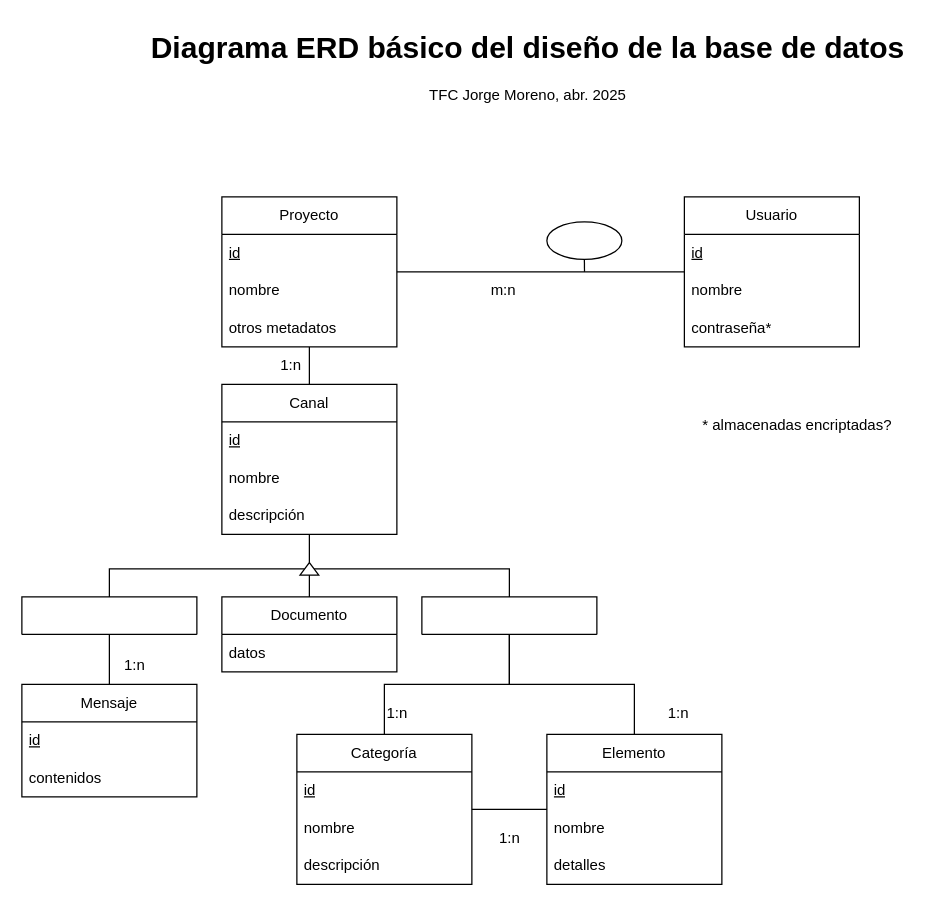
The diagram is 944 pixels wide and 906 high, and some of its shapes have lost their labels. The centre of each missing label's shape, as x and y in pixels:
"Kanban" belongs at (509,615).
"Mensajería" belongs at (109,615).
"permisos" belongs at (584,240).
